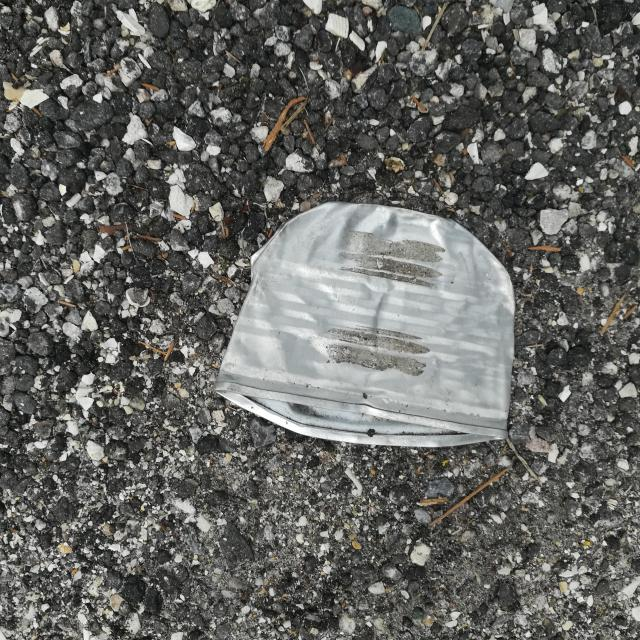litter: (215, 203, 516, 450)
